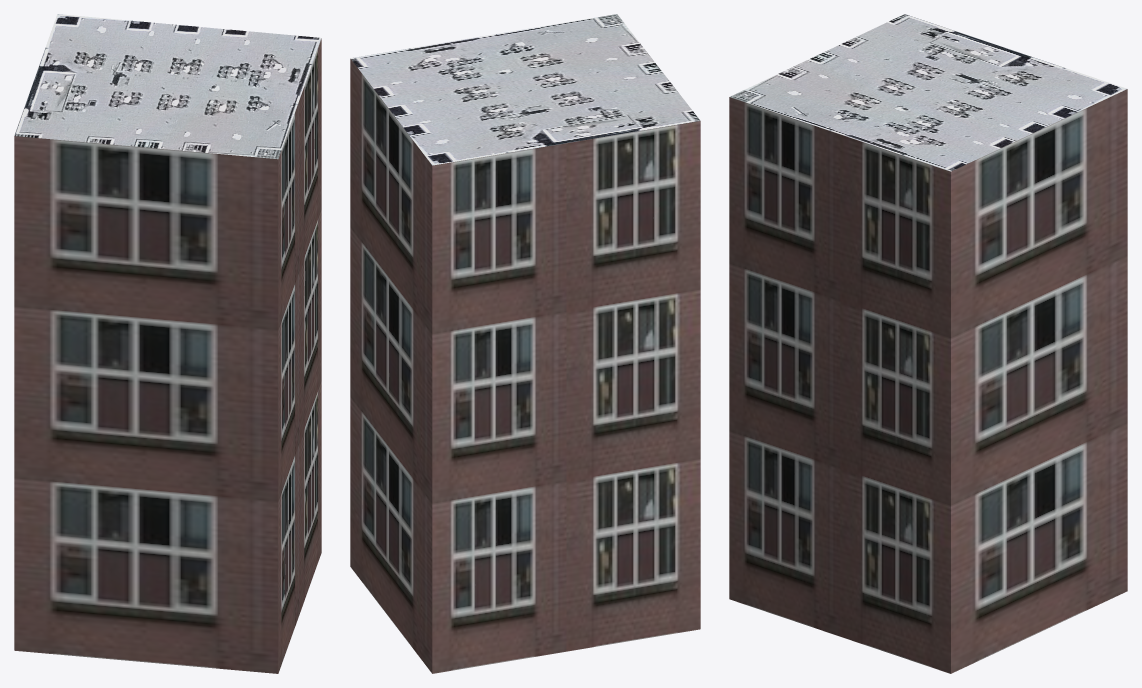
The model's file is ResTex__216.fbx.
3 renders of one model, left to right at view 1: azimuth 30°, elevation 25°; view 2: azimuth 150°, elevation 25°; view 3: azimuth 270°, elevation 25°, orthographic. The views are drawn at different scales.
Parts seen in each view (by area): view 1: CityEngineMaterial_12_m, CityEngineMaterial_8_m; view 2: CityEngineMaterial_12_m, CityEngineMaterial_8_m; view 3: CityEngineMaterial_12_m, CityEngineMaterial_8_m.
Boxes of the visible parts, x1,y1,x2,y2 form: CityEngineMaterial_12_m: [14, 39, 321, 673]; CityEngineMaterial_8_m: [14, 14, 321, 159]; CityEngineMaterial_12_m: [350, 59, 700, 673]; CityEngineMaterial_8_m: [350, 14, 700, 165]; CityEngineMaterial_12_m: [729, 89, 1127, 673]; CityEngineMaterial_8_m: [730, 14, 1126, 171].
Bounding box in the file's own units: 6.06 × 9 × 6.47.
Materials: 2 (2 with a texture image).
